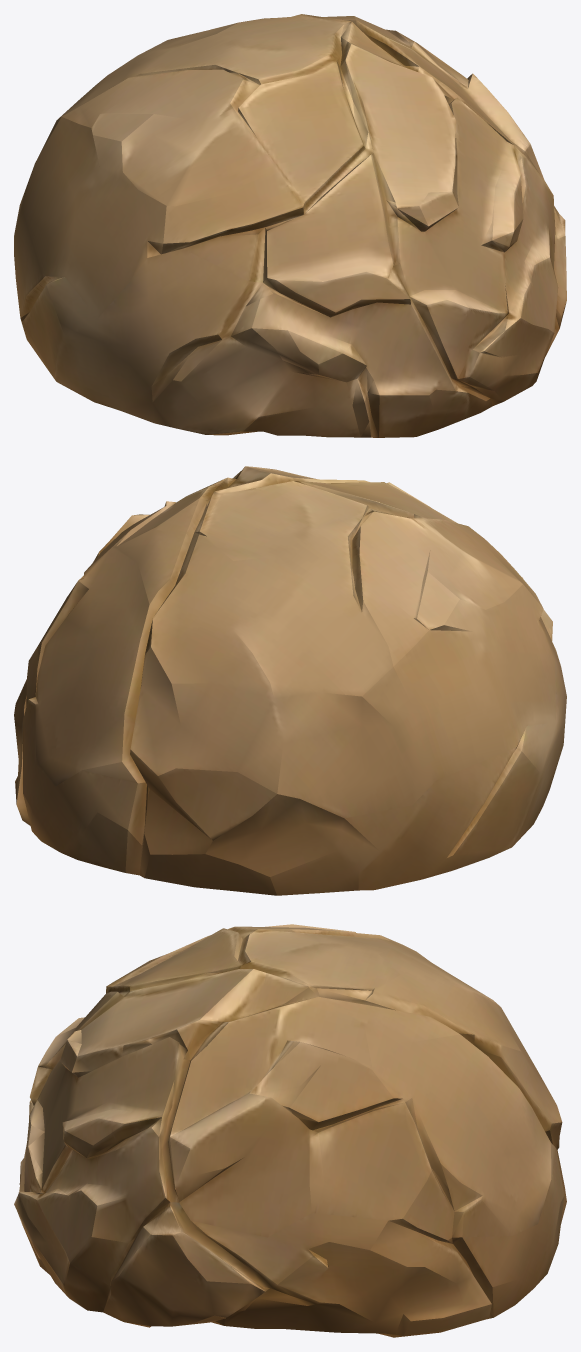
Rendered from m2RollingBoulder.glb.
3 views of the same model, one above another, from view 1: azimuth 30°, elevation 25°; view 2: azimuth 150°, elevation 25°; view 3: azimuth 270°, elevation 25° (orthographic). The views are drawn at different scales.
Visible parts, largest first — view 1: model; view 2: model; view 3: model.
Part boxes in pixels (<box>): model: <box>14,14,566,437</box>; model: <box>14,466,566,895</box>; model: <box>14,924,566,1337</box>.
Bounding box in the file's own units: 1.84 × 1.14 × 1.91.
Materials: 1 (1 with a texture image).
